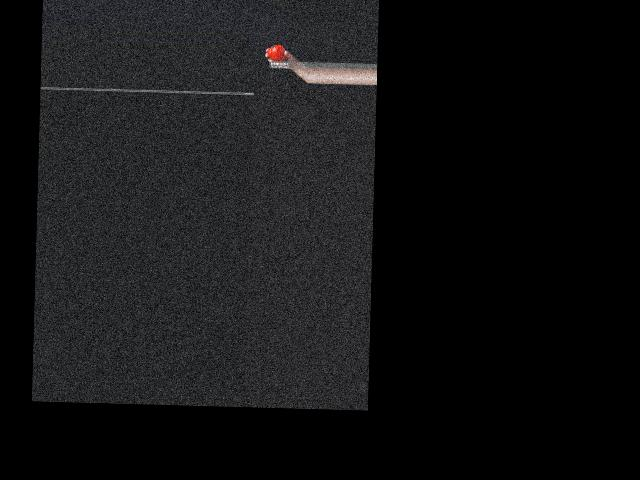tomato: (267, 44, 285, 62)
